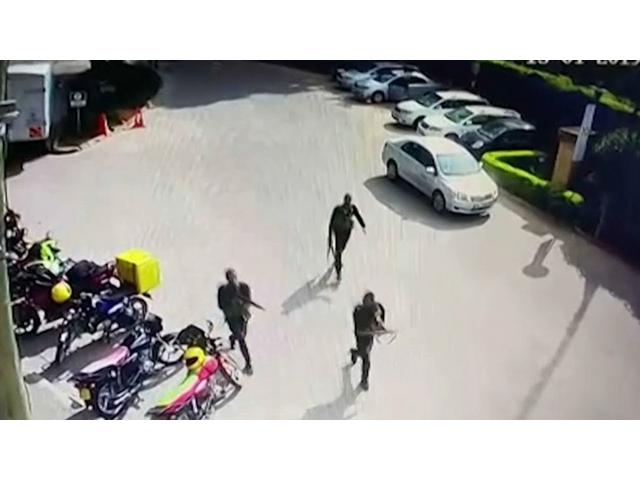rifle: (232, 291, 270, 312), (326, 223, 339, 265)
